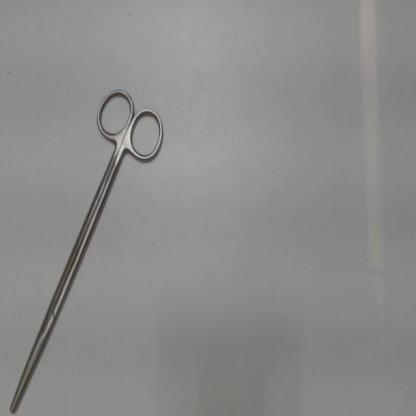9 Metzenbaum Scissors: (9, 82, 171, 415)
